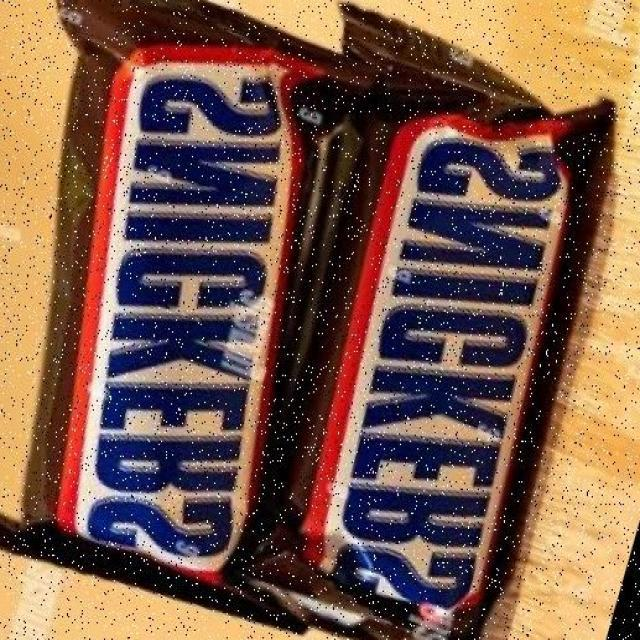Dry Waste: (30, 0, 564, 618), (568, 88, 612, 290)
